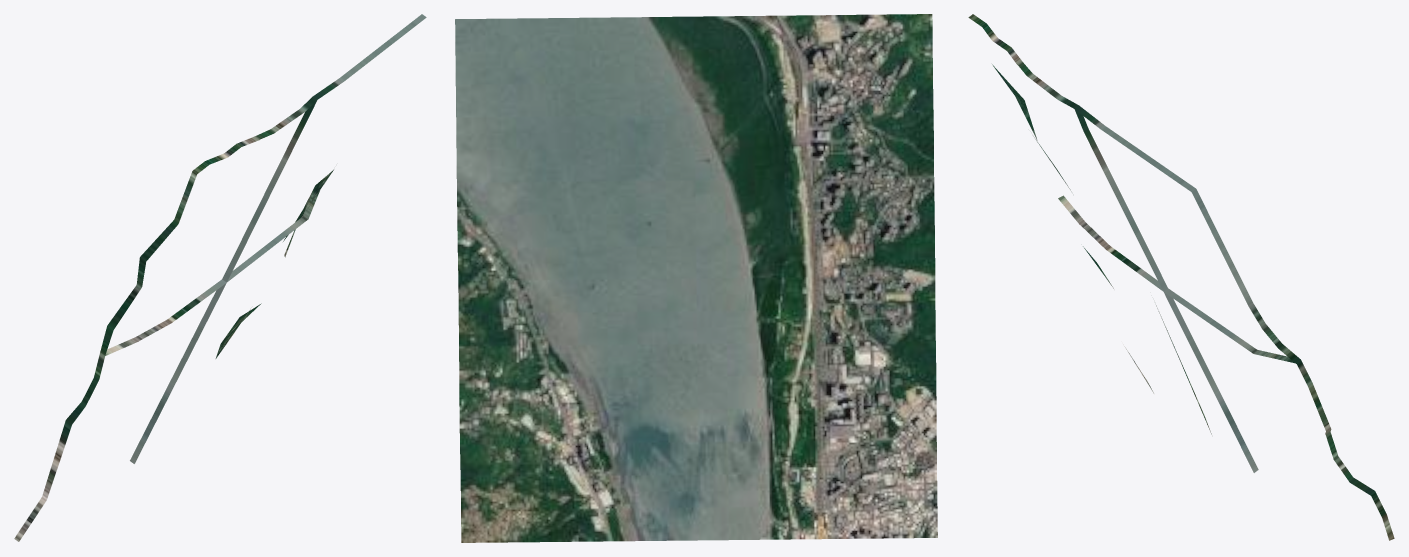
The picture shows the model from 3 angles, left to right: view 1: azimuth 30°, elevation 25°; view 2: azimuth 150°, elevation 25°; view 3: azimuth 270°, elevation 25°; orthographic projection. The views are drawn at different scales.
Size of the model in its own units: 2469 by 2255 by 2078.
Materials: 1 (1 with a texture image).
